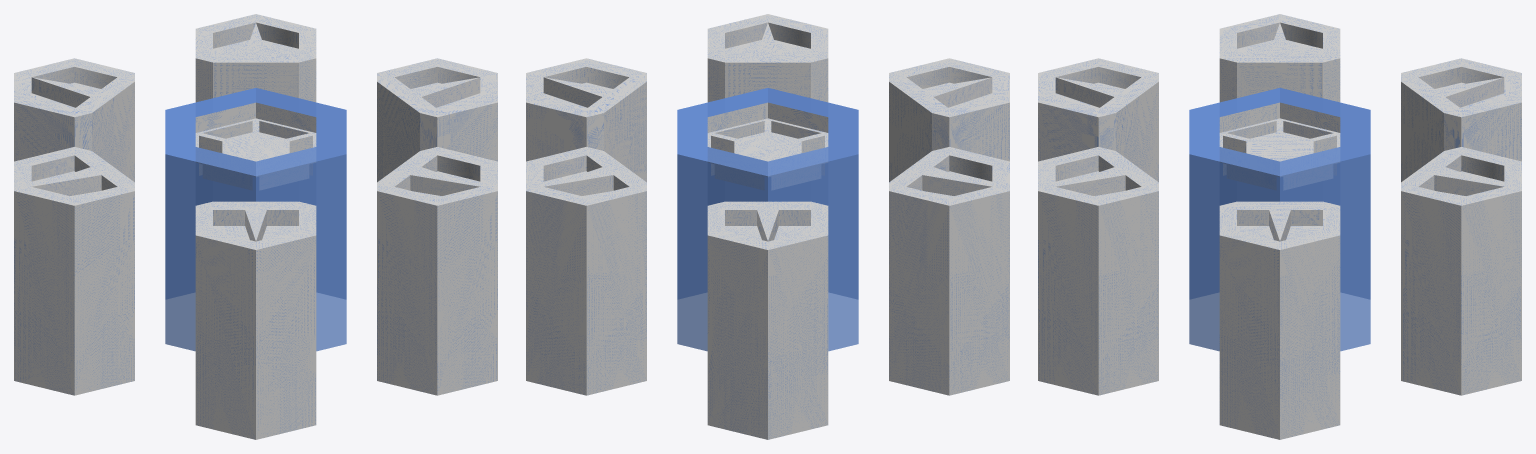
3 views of the same model, side by side, from view 1: azimuth 30°, elevation 25°; view 2: azimuth 150°, elevation 25°; view 3: azimuth 270°, elevation 25° (orthographic).
Parts seen in each view (by area): view 1: group_0 (×6), group_4 (×2), group_3 (×2), group_5 (×2), group_2 (×2), group_6 (×2), group_7 (×2); view 2: group_0 (×6), group_2 (×2), group_3 (×2), group_7 (×2), group_4 (×2), group_6 (×2), group_5 (×2); view 3: group_0 (×6), group_6 (×2), group_5 (×2), group_7 (×2), group_2 (×2), group_4 (×2), group_3 (×2).
Boxes of the visible parts, x1,y1,x2,y2 form: group_0 (×6): (165, 88, 346, 351); group_4 (×2): (195, 201, 316, 439); group_3 (×2): (14, 147, 134, 395); group_5 (×2): (377, 147, 497, 395); group_2 (×2): (14, 58, 134, 182); group_6 (×2): (377, 58, 497, 182); group_7 (×2): (195, 14, 316, 102); group_0 (×6): (677, 88, 858, 351); group_2 (×2): (707, 201, 828, 439); group_3 (×2): (889, 147, 1009, 395); group_7 (×2): (526, 147, 646, 395); group_4 (×2): (889, 58, 1009, 182); group_6 (×2): (526, 58, 646, 182); group_5 (×2): (707, 14, 828, 102); group_0 (×6): (1189, 88, 1370, 351); group_6 (×2): (1219, 201, 1340, 439); group_5 (×2): (1038, 147, 1158, 395); group_7 (×2): (1401, 147, 1521, 395); group_2 (×2): (1401, 58, 1521, 182); group_4 (×2): (1038, 58, 1158, 182); group_3 (×2): (1219, 14, 1340, 102).
Bounding box in the file's own units: 114 × 98.88 × 42.81.
